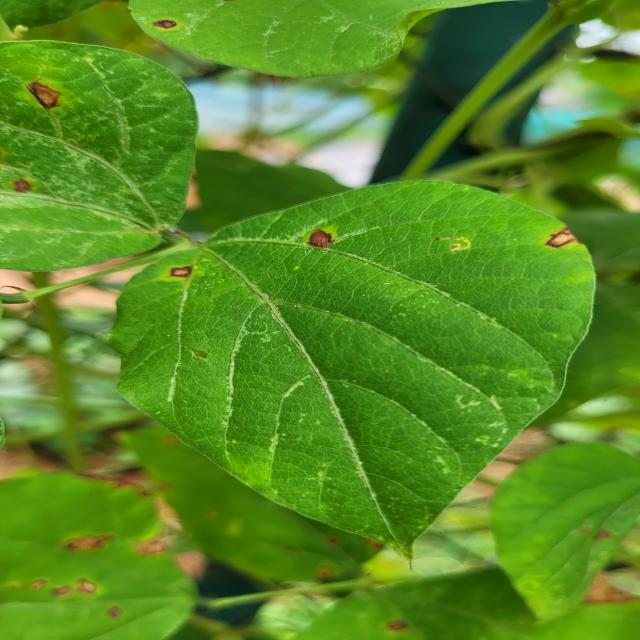Dolicos bean_cercospora leaf spot: (113, 178, 590, 574), (0, 37, 209, 268), (0, 470, 215, 640)
